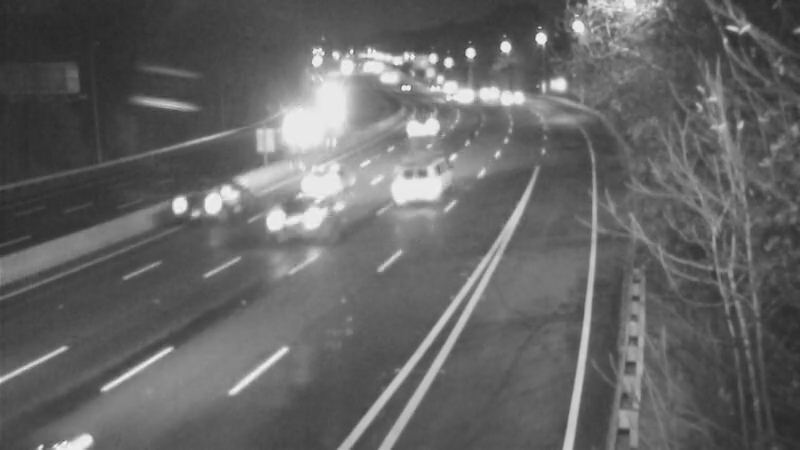vehicle: (1, 360, 111, 450), (392, 138, 472, 218), (285, 136, 365, 216), (248, 177, 328, 257), (173, 156, 253, 236), (468, 66, 518, 116), (481, 73, 531, 123), (396, 103, 446, 153), (257, 110, 307, 160)
